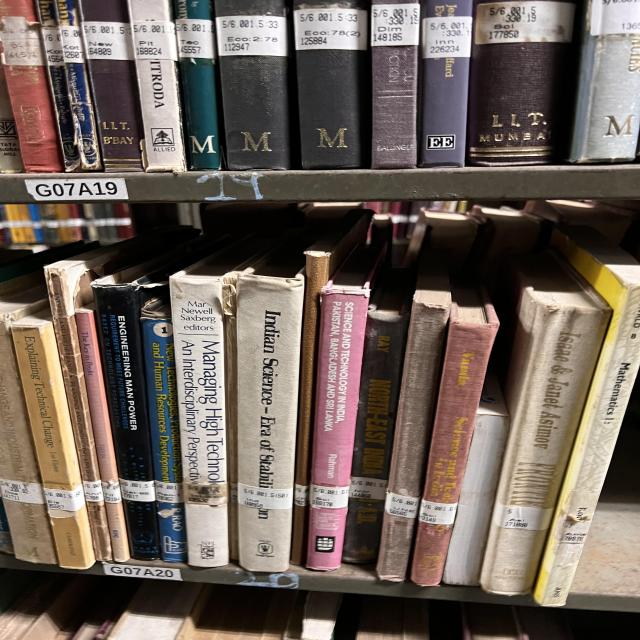Book: (480, 251, 612, 595), (533, 225, 640, 606), (170, 236, 270, 568), (290, 209, 373, 565), (43, 236, 163, 482), (235, 235, 313, 571), (412, 286, 498, 585), (307, 245, 383, 571), (377, 251, 452, 581), (92, 264, 167, 560), (12, 312, 95, 569), (343, 271, 412, 564), (443, 374, 510, 585), (75, 306, 130, 561), (142, 298, 187, 561), (87, 500, 112, 561)
Label: (493, 502, 553, 530), (238, 482, 293, 510), (43, 485, 85, 511), (418, 499, 458, 525), (183, 482, 228, 505), (310, 484, 350, 509), (385, 491, 420, 519), (348, 476, 387, 500), (120, 479, 155, 502), (155, 481, 183, 504), (82, 480, 103, 502), (102, 481, 122, 504), (293, 484, 308, 506)
